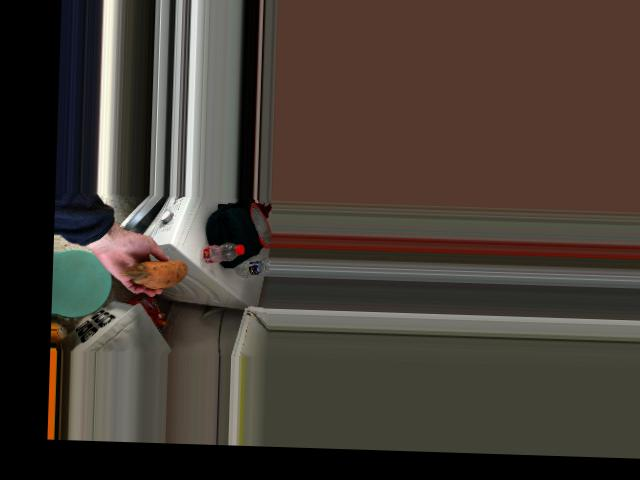sweet_potato: (132, 260, 201, 287)
